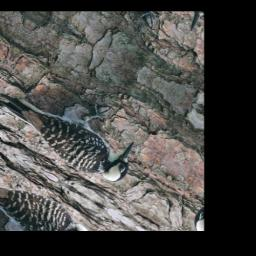Woodpecker: (0, 51, 151, 197)
